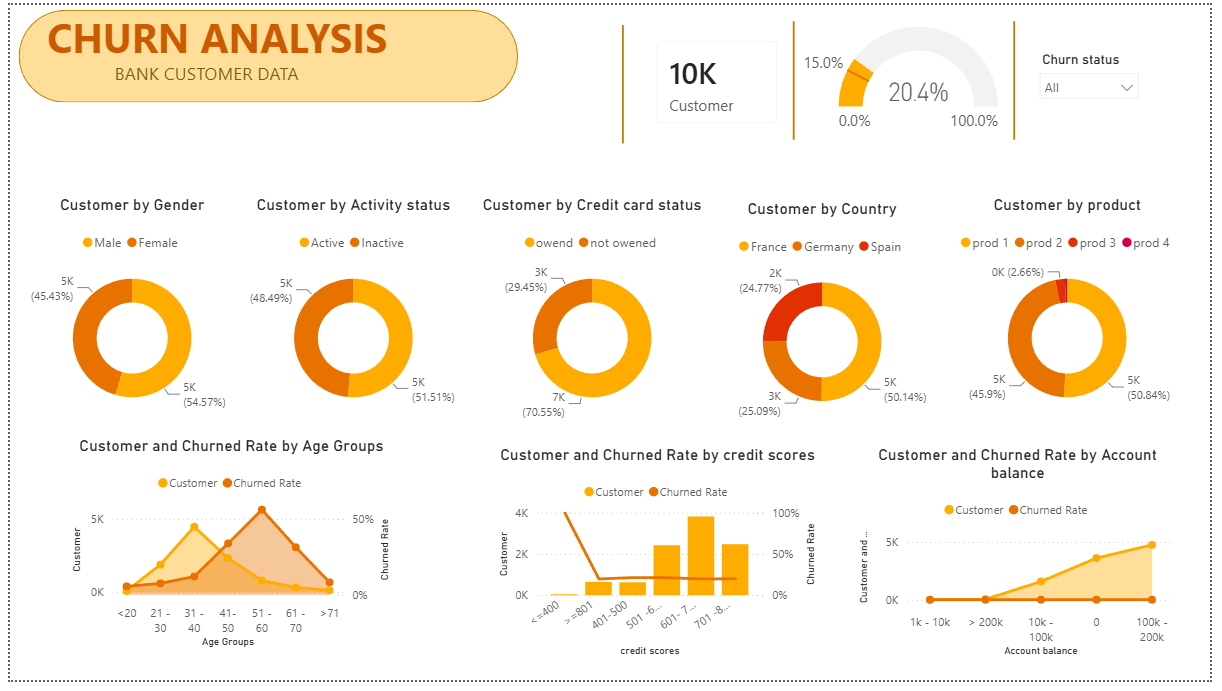

This screenshot's page, from the dashboard's own definition file:
{"tool":"powerbi","page":{"name":"Page 1","canvas":[1280,720],"ordinal":0},"visuals":[{"type":"cardVisual","fields":{"Data":["Customer Data.Customer"]},"box":[673.3,21.1,162.6,122.3],"z":0},{"type":"donutChart","fields":{"Category":["Customer Data.Gender"],"Y":["Customer Data.Customer"]},"box":[8.6,203,245,245],"z":1000},{"type":"donutChart","fields":{"Y":["Customer Data.Customer"],"Category":["Customer Data.Activity status"]},"box":[243.3,203,245,245],"z":2000},{"type":"donutChart","fields":{"Y":["Customer Data.Customer"],"Category":["Customer Data.Credit card status"]},"box":[498.8,202.5,245,245],"z":3000},{"type":"donutChart","fields":{"Y":["Customer Data.Customer"],"Category":["Customer Data.Country"]},"box":[743.8,206.2,245,245],"z":4000},{"type":"donutChart","fields":{"Y":["Customer Data.Customer"],"Category":["Customer Data.product"]},"box":[1005,202.5,245,245],"z":5000},{"type":"areaChart","fields":{"Category":["Age Groups.Age Groups"],"Y":["Customer Data.Customer"],"Y2":["Customer Data.Churned Rate"]},"box":[61.2,460,350,230],"z":6000},{"type":"lineClusteredColumnComboChart","fields":{"Y":["Customer Data.Customer"],"Y2":["Customer Data.Churned Rate"],"Category":["Customer Data.credit scores "]},"box":[516.2,468.8,350,230],"z":7000},{"type":"areaChart","fields":{"Category":["Account Balance.Account balance"],"Y":["Customer Data.Customer","Customer Data.Churned Rate"]},"box":[900,468.8,350,230],"z":8000},{"type":"slicer","fields":{"Values":["Customer Data.Churn status"]},"box":[1087.5,44.5,126.2,75.5],"z":9000},{"type":"gauge","fields":{"Y":["Customer Data.Churned Rate"],"MinValue":["Min(Customer Data.Min churn Rate )"],"MaxValue":["Max(Customer Data.Max churn rate)"],"TargetValue":["Max(Customer Data.Target Churn Rate)"]},"box":[836.2,7.3,223,150],"z":10000},{"type":"textbox","box":[35,0,442.5,68.8],"z":11000},{"type":"textbox","box":[106.2,55,246.2,36.2],"z":12000},{"type":"shape","box":[8.8,5,532.5,98.8],"z":13000},{"type":"shape","box":[825,17.5,21.2,126.2],"z":14000},{"type":"shape","box":[1058.8,17.5,25,126.2],"z":15000},{"type":"shape","box":[640,21.2,27.5,126.2],"z":16000}]}

Visuals, with their boxes in screenshot pixels (x1, y1, x2, y2), scaled from the page's 1280x720 canvas onto the 1222x691 screenshot:
cardVisual - Customer Data.Customer: (left=643, top=20, right=798, bottom=138)
donutChart - Customer Data.Gender x Customer Data.Customer: (left=8, top=195, right=242, bottom=430)
donutChart - Customer Data.Customer x Customer Data.Activity status: (left=232, top=195, right=466, bottom=430)
donutChart - Customer Data.Customer x Customer Data.Credit card status: (left=476, top=194, right=710, bottom=429)
donutChart - Customer Data.Customer x Customer Data.Country: (left=710, top=198, right=944, bottom=433)
donutChart - Customer Data.Customer x Customer Data.product: (left=959, top=194, right=1193, bottom=429)
areaChart - Age Groups.Age Groups x Customer Data.Customer: (left=58, top=441, right=393, bottom=662)
lineClusteredColumnComboChart - Customer Data.Customer x Customer Data.Churned Rate: (left=493, top=450, right=827, bottom=671)
areaChart - Account Balance.Account balance x Customer Data.Customer: (left=859, top=450, right=1193, bottom=671)
slicer - Customer Data.Churn status: (left=1038, top=43, right=1159, bottom=115)
gauge - Customer Data.Churned Rate x Min(Customer Data.Min churn Rate ): (left=798, top=7, right=1011, bottom=151)
textbox: (left=33, top=0, right=456, bottom=66)
textbox: (left=101, top=53, right=336, bottom=88)
shape: (left=8, top=5, right=517, bottom=100)
shape: (left=788, top=17, right=808, bottom=138)
shape: (left=1011, top=17, right=1035, bottom=138)
shape: (left=611, top=20, right=637, bottom=141)
